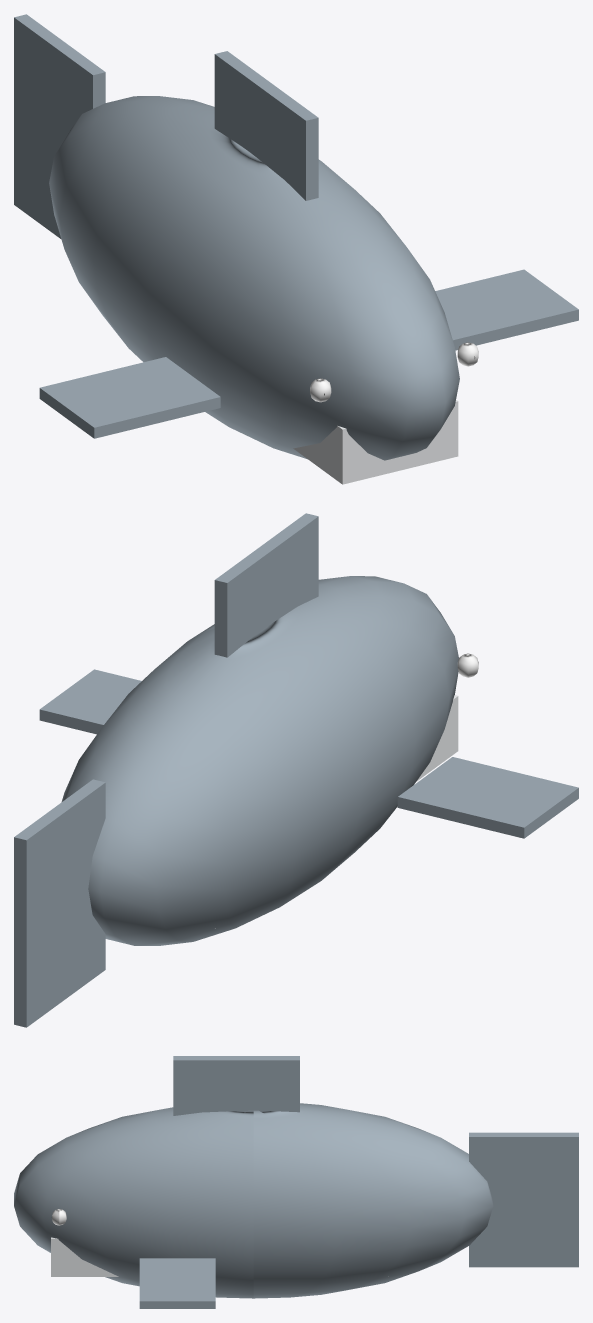
File: 35373bab-b89e-4487-93d5-9d446e84aa69.glb
3 renders of one model, top to bottom at view 1: azimuth 30°, elevation 25°; view 2: azimuth 150°, elevation 25°; view 3: azimuth 270°, elevation 25°, orthographic. The views are drawn at different scales.
Parts seen in each view (by area): view 1: Generated3DMesh; view 2: Generated3DMesh; view 3: Generated3DMesh.
Boxes of the visible parts, bbox=[...] form: Generated3DMesh: bbox=[14, 14, 578, 484]; Generated3DMesh: bbox=[14, 513, 578, 1027]; Generated3DMesh: bbox=[14, 1056, 578, 1308].
Bounding box in the file's own units: 2.3 × 1.53 × 3.34.
